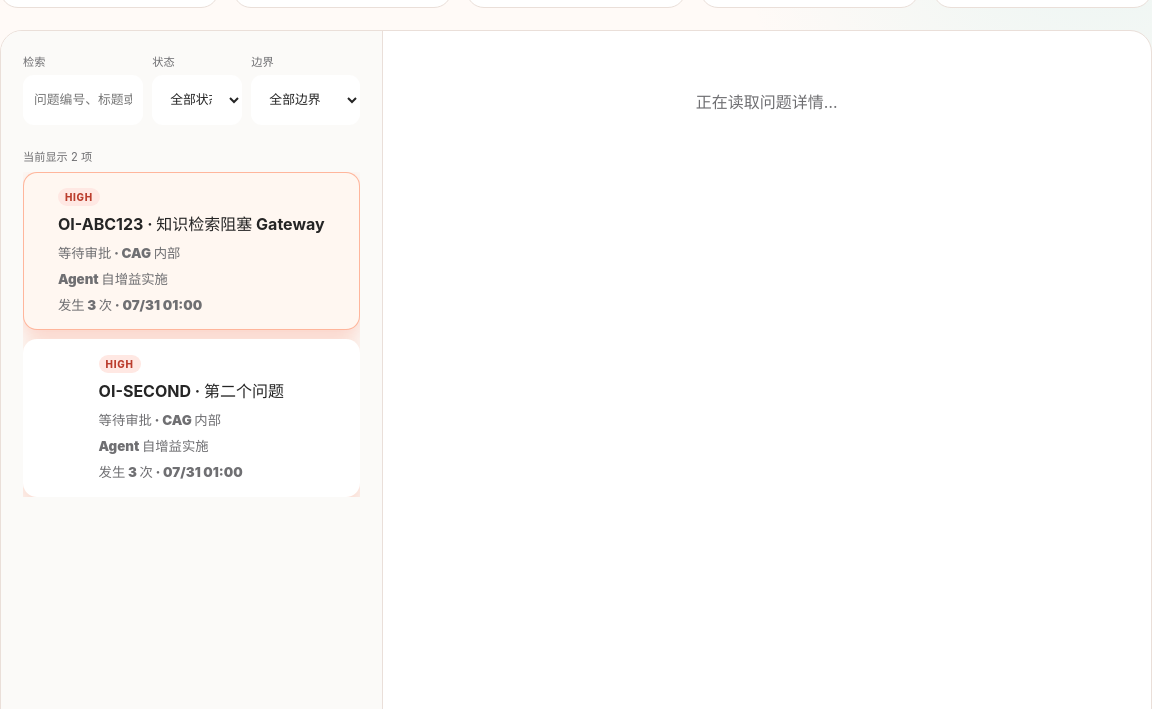
Test: OperationsCenterPage › keeps the latest selection when an older detail request finishes later
(page scrolled)
Click the button "OI-SECOND". click: click(191, 418)
box: [23, 339, 360, 497]
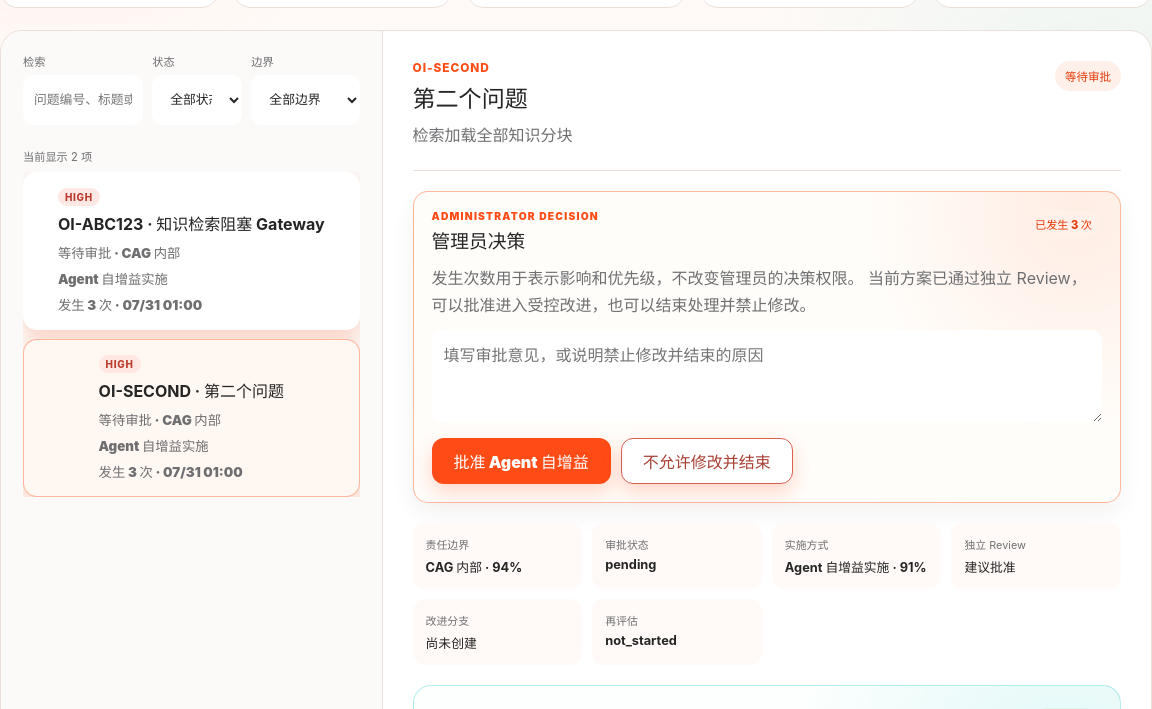
Expected: the heading "第二个问题" is shown, [413, 85, 528, 113]
